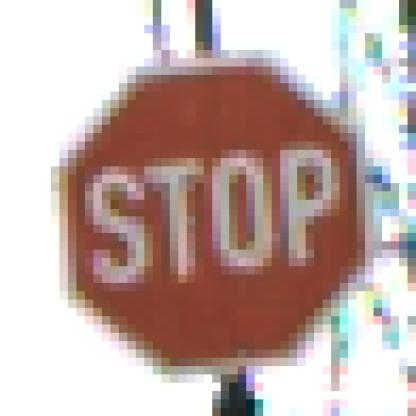Stop: (60, 69, 364, 372)
